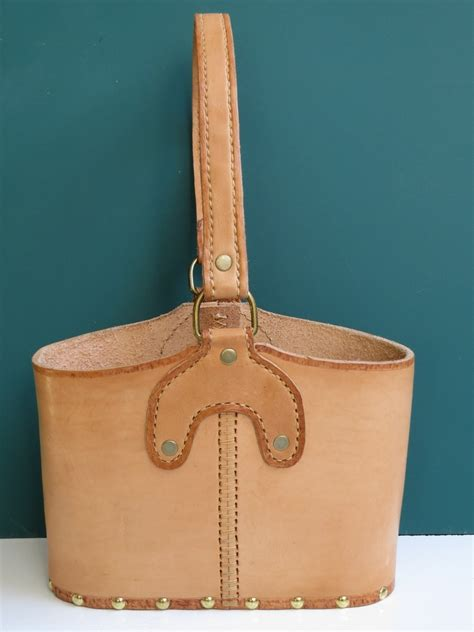cuero: (29, 11, 417, 611)
